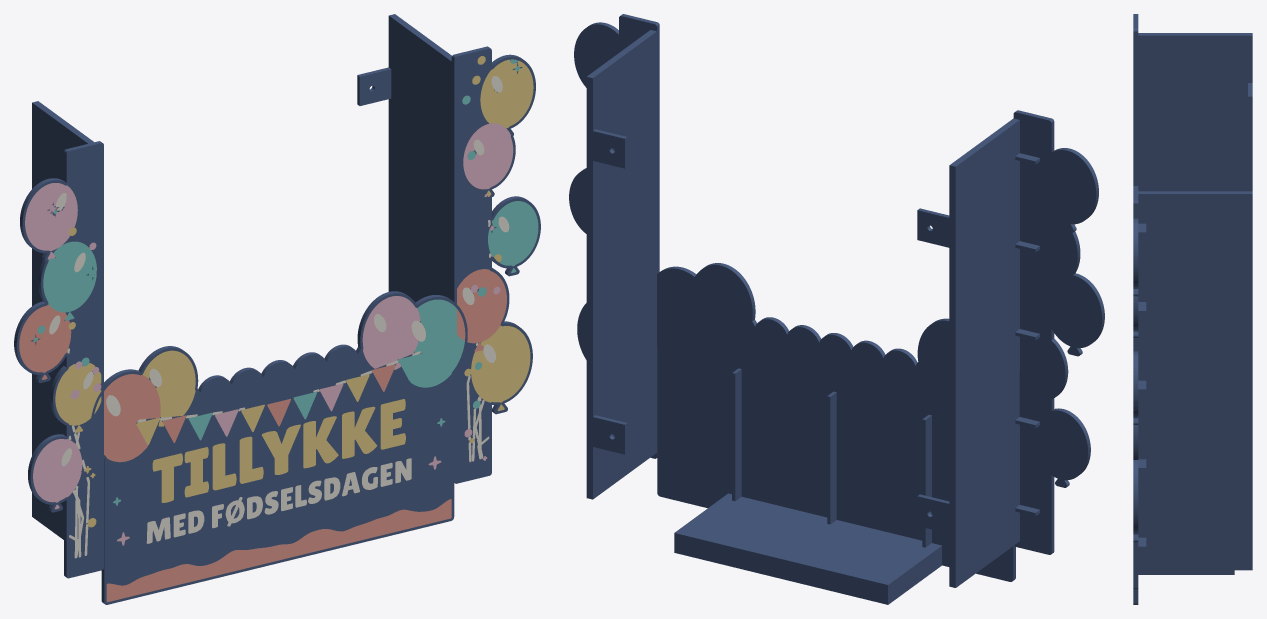
Rendered from parts.glb.
The picture shows the model from 3 angles, left to right: view 1: azimuth 30°, elevation 25°; view 2: azimuth 150°, elevation 25°; view 3: azimuth 270°, elevation 25°; orthographic projection. The views are drawn at different scales.
Parts seen in each view (by area): view 1: topper__base, wing_right__base, wing_left__base, topper__gold, topper__coral, wing_right__gold, wing_left__pink, topper__cream, topper__teal, topper__pink, wing_left__teal, wing_right__coral (+6 smaller); view 2: topper__base, wing_left__base, wing_right__base; view 3: wing_right__base, wing_left__base, topper__base.
Part boxes in pixels (left/top/right/bottom): topper__base: left=90, top=291, right=467, bottom=604; wing_right__base: left=357, top=14, right=540, bottom=483; wing_left__base: left=14, top=101, right=103, bottom=578; topper__gold: left=136, top=350, right=405, bottom=502; topper__coral: left=104, top=364, right=451, bottom=602; wing_right__gold: left=464, top=56, right=533, bottom=443; wing_left__pink: left=25, top=183, right=101, bottom=509; topper__cream: left=106, top=314, right=425, bottom=543; topper__teal: left=113, top=299, right=464, bottom=505; topper__pink: left=117, top=296, right=441, bottom=545; wing_left__teal: left=33, top=210, right=96, bottom=366; wing_right__coral: left=457, top=269, right=506, bottom=351; topper__base: left=657, top=263, right=1026, bottom=604; wing_left__base: left=917, top=110, right=1104, bottom=587; wing_right__base: left=569, top=14, right=659, bottom=499; wing_right__base: left=1133, top=186, right=1252, bottom=589; wing_left__base: left=1133, top=14, right=1252, bottom=191; topper__base: left=1133, top=570, right=1234, bottom=604.
Size of the model in its own units: 336 by 284 by 73.
